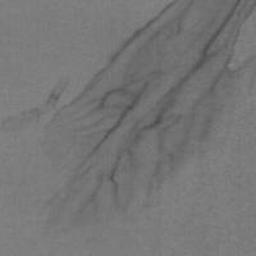Water spot: (0, 0, 256, 239)
